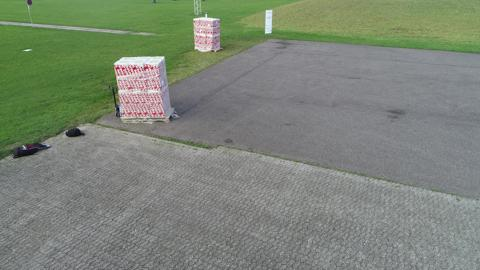RockwoolPallet: (114, 59, 175, 119)
